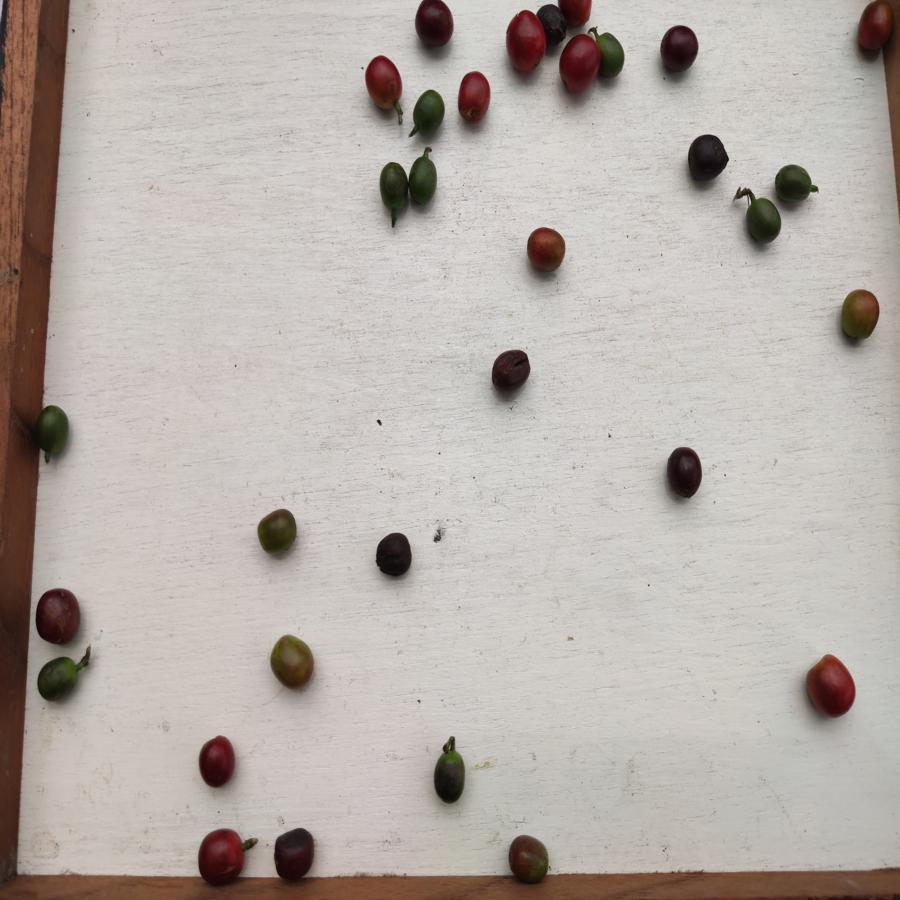Inmaduro: (432, 746, 468, 805), (743, 194, 783, 246), (37, 655, 80, 702), (35, 403, 72, 457), (773, 162, 817, 205), (378, 159, 410, 214), (411, 90, 446, 135), (408, 156, 439, 203), (599, 29, 625, 81)
Maduro: (803, 652, 857, 719), (194, 826, 247, 887), (558, 32, 598, 94), (506, 10, 540, 76), (364, 55, 402, 112), (455, 69, 492, 124), (859, 1, 886, 61)
Pinton: (269, 634, 315, 689), (838, 287, 880, 343), (507, 831, 549, 881), (254, 508, 298, 554), (525, 227, 567, 274)
Sobremaduro: (34, 588, 82, 644), (686, 134, 731, 185), (272, 827, 315, 880), (199, 733, 237, 788), (666, 445, 703, 501), (413, 1, 455, 50), (660, 24, 701, 72), (490, 348, 531, 393), (374, 532, 413, 577), (539, 2, 567, 46)
